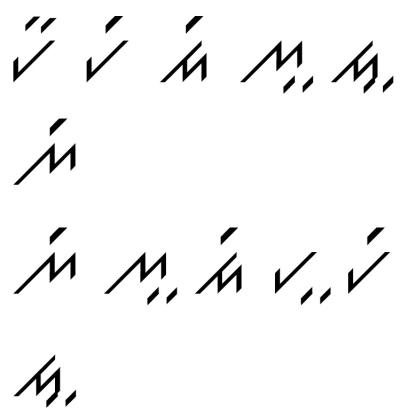dah: (12, 342, 83, 414), (327, 35, 400, 99)
dang: (155, 8, 214, 87), (193, 224, 247, 298)
nah: (102, 238, 180, 310), (234, 28, 314, 96)
nang: (11, 111, 81, 188), (10, 220, 80, 297)
pah: (262, 244, 332, 308)
pan: (10, 10, 58, 80)
pang: (79, 7, 133, 85), (344, 226, 398, 298)
